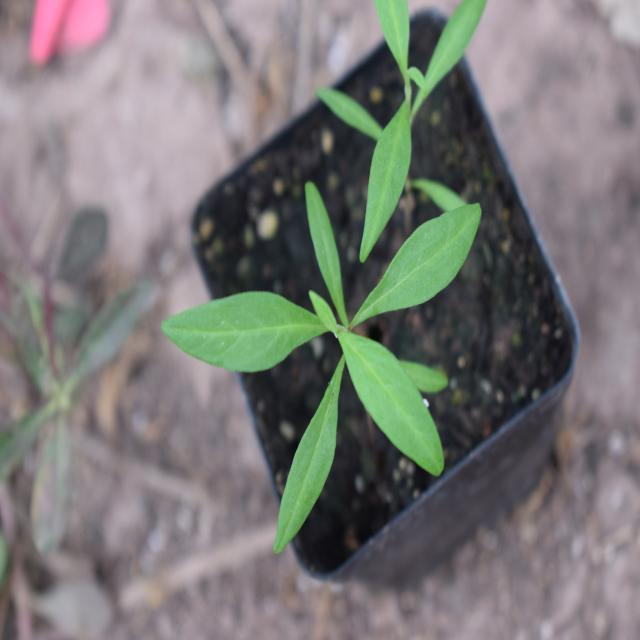white_smart_weed: (148, 172, 479, 564)
